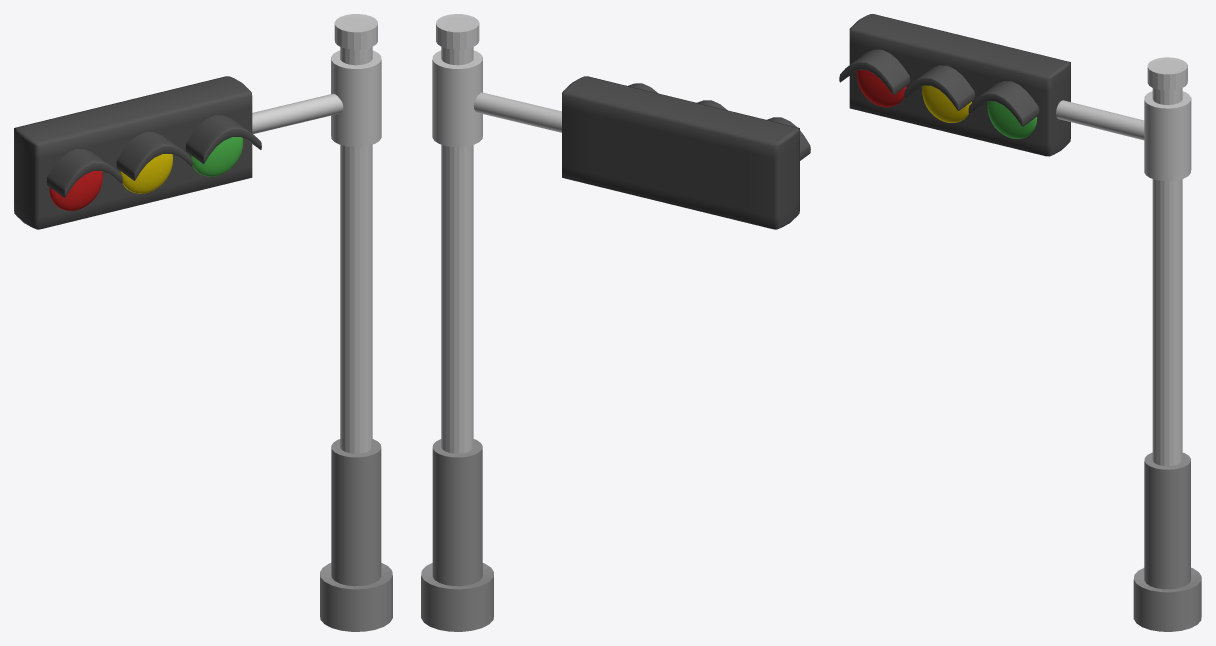
File: traffic light#2.fbx
3 views of the same model, side by side, from view 1: azimuth 30°, elevation 25°; view 2: azimuth 150°, elevation 25°; view 3: azimuth 330°, elevation 25° (orthographic). The views are drawn at different scales.
Visible parts, largest first — view 1: pCylinder8, pSphere2, pSphere4, pSphere3; view 2: pCylinder8; view 3: pCylinder8, pSphere4, pSphere2, pSphere3.
Part boxes in pixels (bbox=[...]): pCylinder8: bbox=[14, 14, 392, 631]; pSphere2: bbox=[49, 171, 102, 210]; pSphere4: bbox=[189, 137, 243, 176]; pSphere3: bbox=[119, 154, 172, 193]; pCylinder8: bbox=[421, 14, 810, 631]; pCylinder8: bbox=[839, 14, 1201, 631]; pSphere4: bbox=[987, 101, 1037, 138]; pSphere2: bbox=[857, 70, 906, 107]; pSphere3: bbox=[922, 85, 971, 122].
Bounding box in the file's own units: 16.59 × 25.77 × 3.88.
